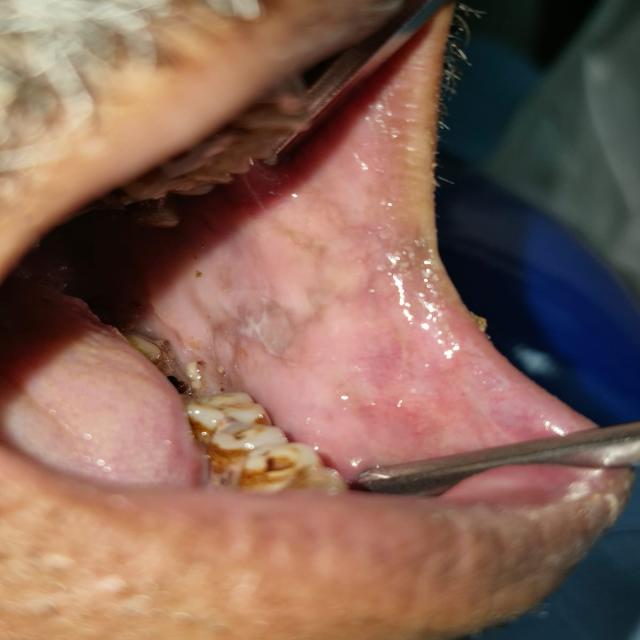leukoplakia-like-detection: (150, 226, 420, 463)
processing_area: (0, 61, 563, 488)
